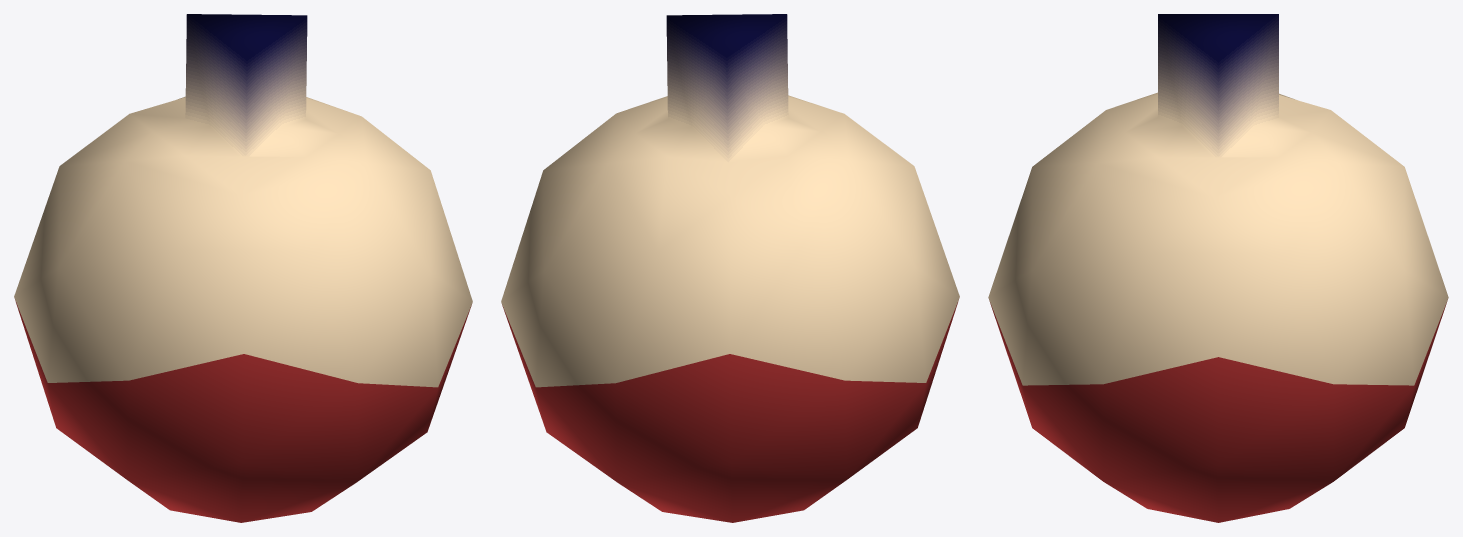
File: bobber.glb
3 renders of one model, left to right at view 1: azimuth 30°, elevation 25°; view 2: azimuth 150°, elevation 25°; view 3: azimuth 270°, elevation 25°, orthographic.
Visible parts, largest first — view 1: Bobber; view 2: Bobber; view 3: Bobber.
Boxes of the visible parts, bbox=[...] form: Bobber: bbox=[14, 14, 472, 522]; Bobber: bbox=[501, 14, 959, 522]; Bobber: bbox=[988, 14, 1448, 522].
Size of the model in its own units: 0.197 by 0.2233 by 0.2.
Materials: 1 (1 with a texture image).
